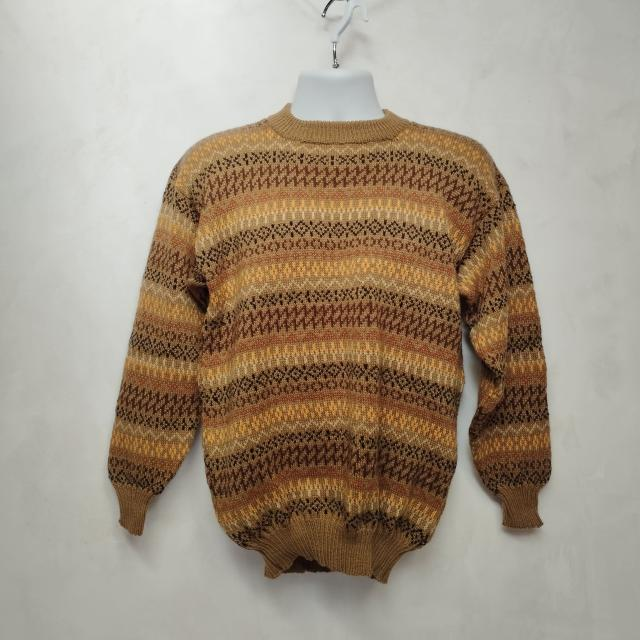Chompa: (107, 73, 552, 584)
